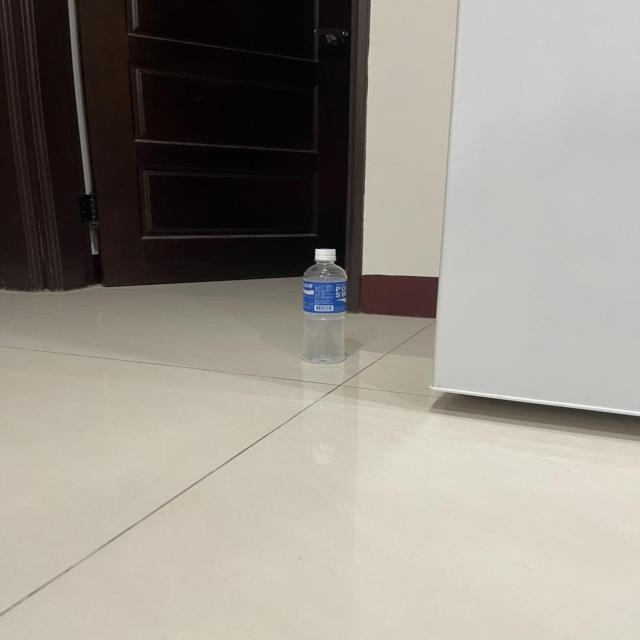bottle: (297, 246, 350, 368)
